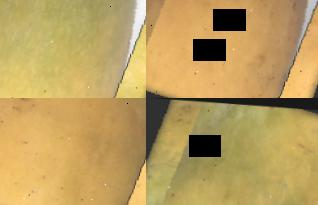PartiallyRipe: (146, 98, 318, 205), (0, 98, 146, 205), (0, 0, 146, 98)
Ripe: (146, 0, 318, 98)
